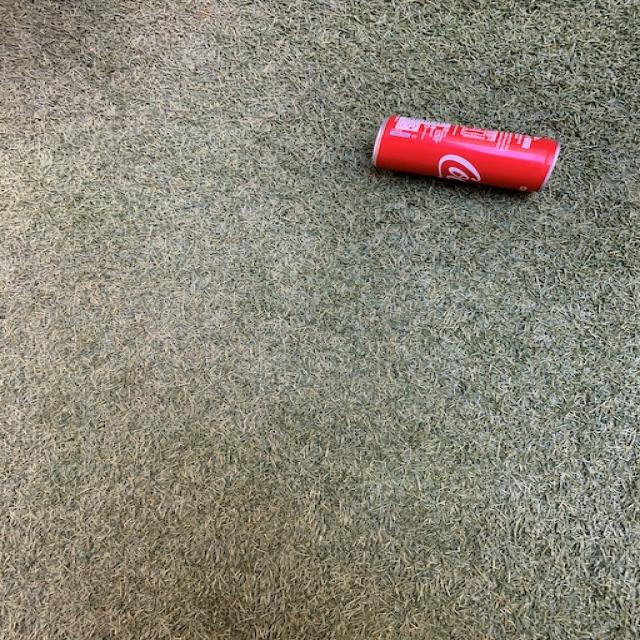litter: (356, 114, 580, 204)
